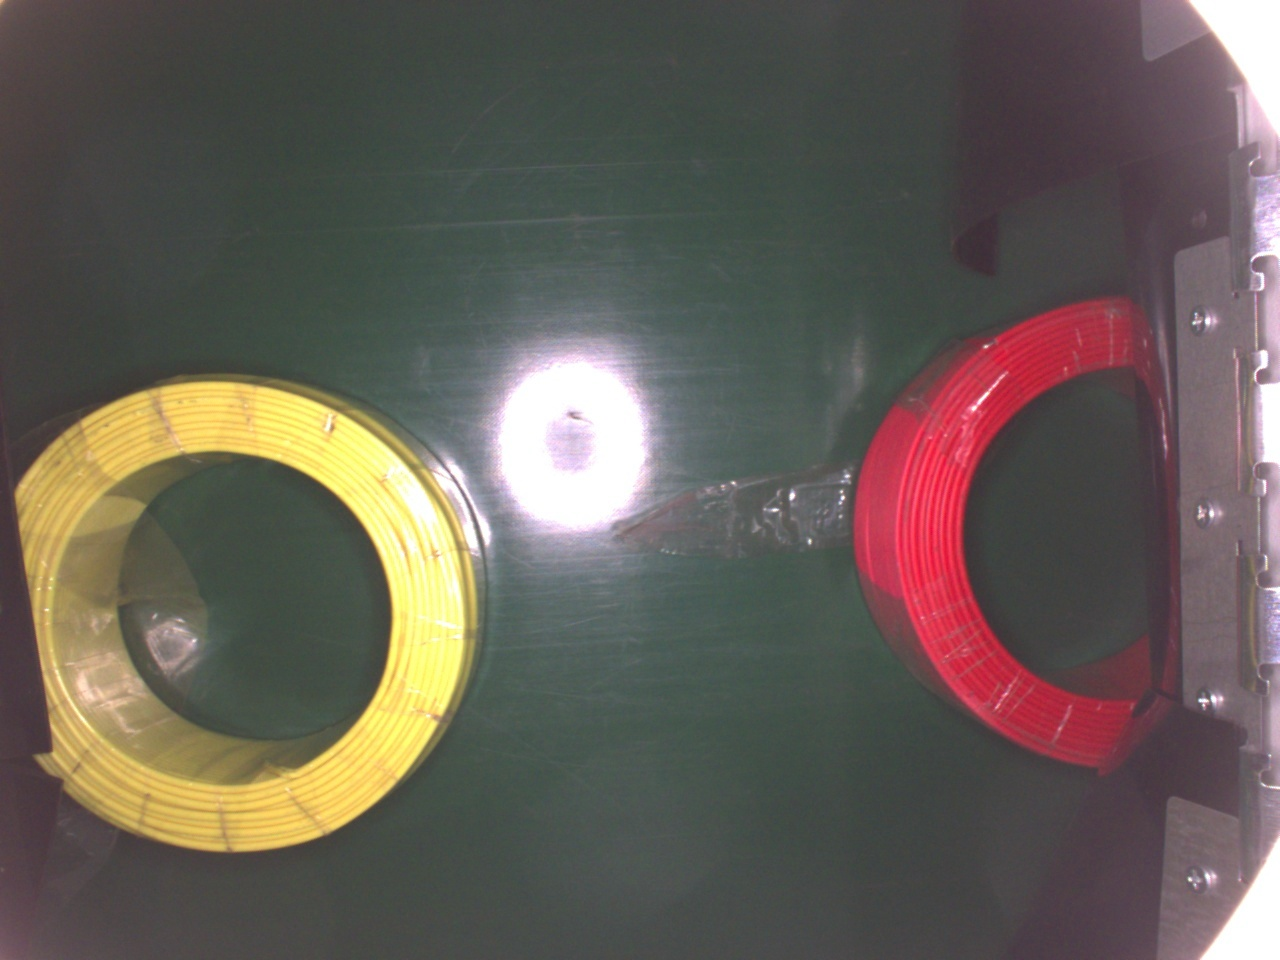red: (853, 292, 1152, 771)
yellow: (13, 374, 486, 853)
